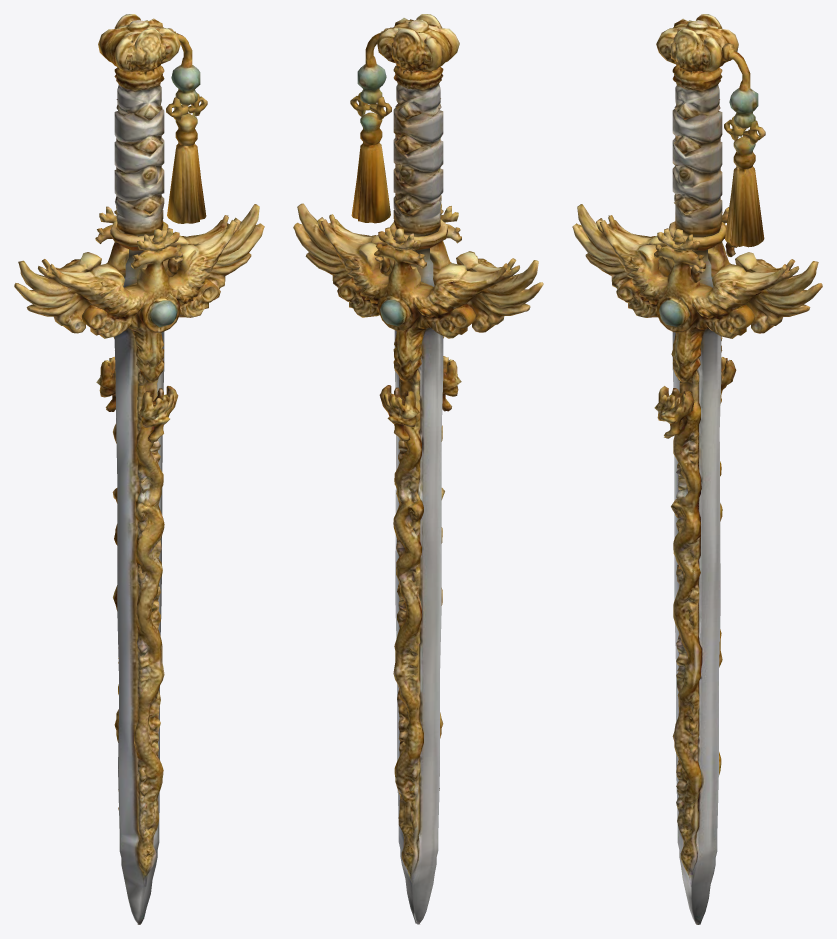
File: prop_heavensword.glb
The picture shows the model from 3 angles, left to right: view 1: azimuth 30°, elevation 25°; view 2: azimuth 150°, elevation 25°; view 3: azimuth 330°, elevation 25°; orthographic projection.
Visible parts, largest first — view 1: tripo_node_29f7c180-5b7e-4b5d-bc8e-a97647debe25; view 2: tripo_node_29f7c180-5b7e-4b5d-bc8e-a97647debe25; view 3: tripo_node_29f7c180-5b7e-4b5d-bc8e-a97647debe25.
Boxes of the visible parts, x1,y1,x2,y2 form: tripo_node_29f7c180-5b7e-4b5d-bc8e-a97647debe25: (14,14,264,924); tripo_node_29f7c180-5b7e-4b5d-bc8e-a97647debe25: (293,14,543,924); tripo_node_29f7c180-5b7e-4b5d-bc8e-a97647debe25: (572,14,822,924).
Size of the model in its own units: 0.2815 by 0.9785 by 0.1168.
1 material, 1 textured.
